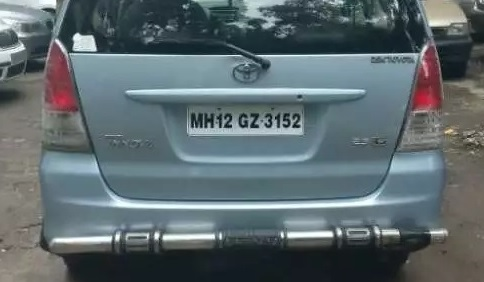licenseplate: (182, 100, 307, 137)
